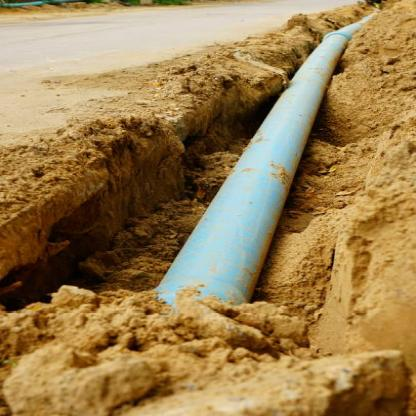PVC: (151, 14, 373, 308)
